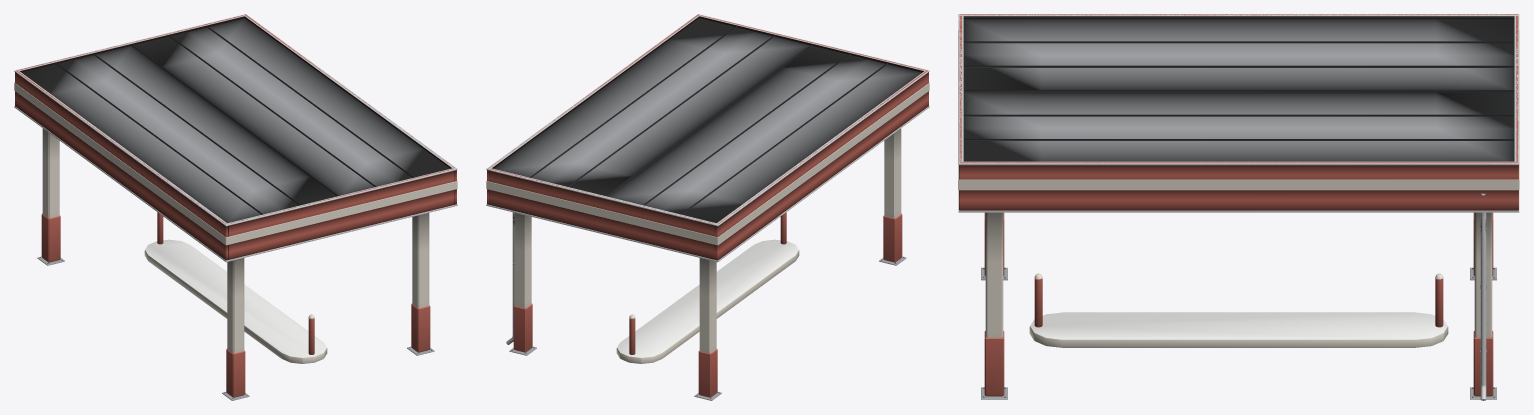
The model's file is canopy_s.glb.
The picture shows the model from 3 angles, left to right: view 1: azimuth 30°, elevation 25°; view 2: azimuth 150°, elevation 25°; view 3: azimuth 270°, elevation 25°; orthographic projection. The views are drawn at different scales.
Parts seen in each view (by area): view 1: PART; view 2: PART; view 3: PART.
Part boxes in pixels (box(x1,y1,x2,y2)): PART: box(14, 14, 457, 400); PART: box(486, 14, 929, 400); PART: box(958, 14, 1519, 400).
Size of the model in its own units: 6.03 by 4.6 by 9.52.
